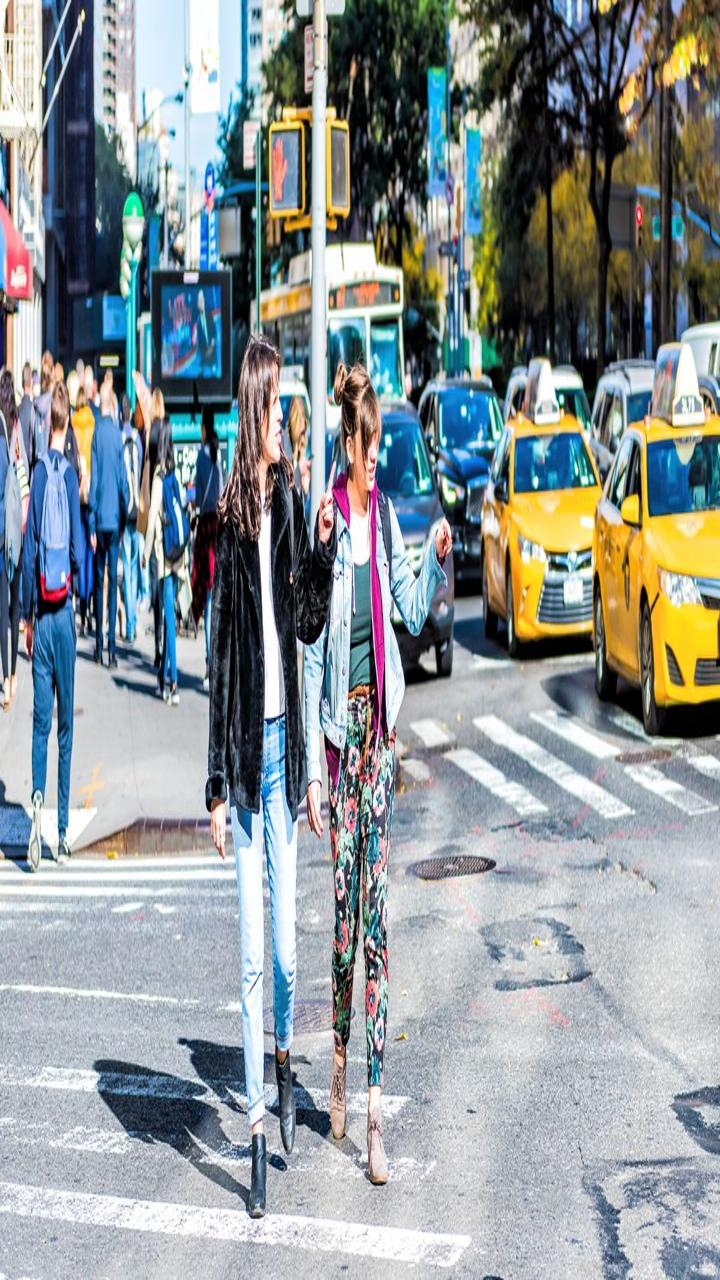pedestrian: (208, 321, 324, 1237), (304, 311, 418, 1197), (20, 366, 103, 904)
vehicle: (588, 423, 720, 719), (479, 409, 615, 683)
